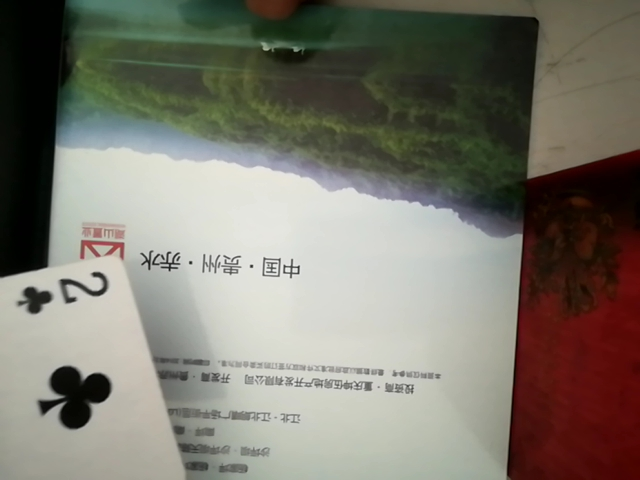mh 2: (2, 253, 185, 477)
